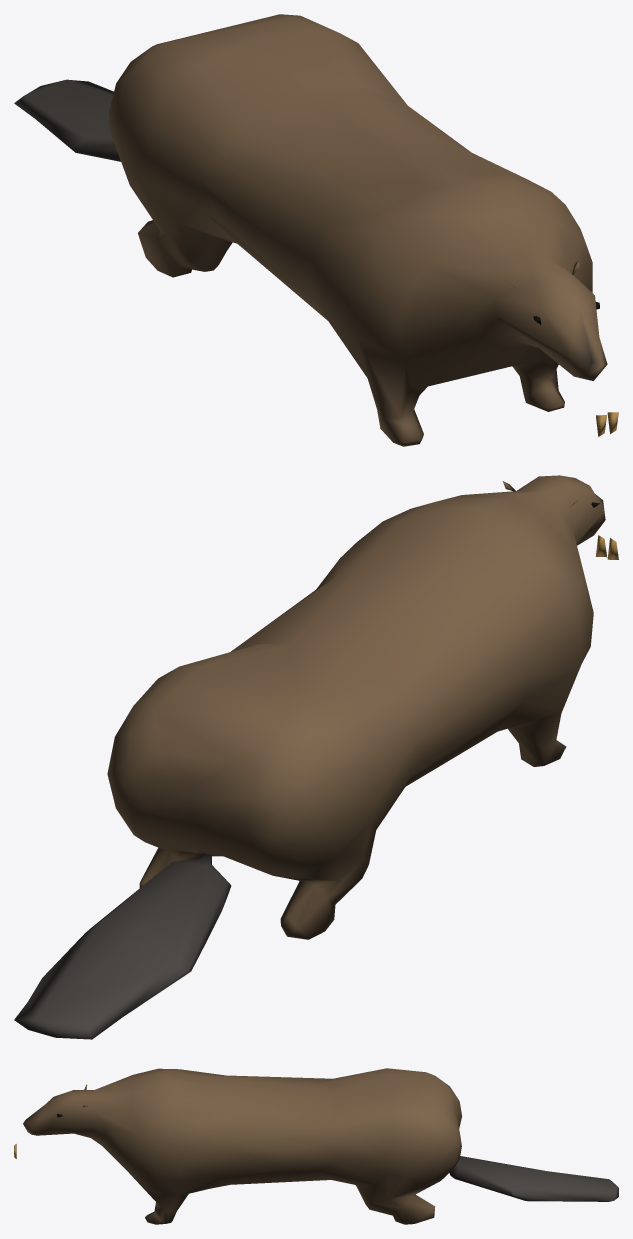
Rendered from biber.glb.
3 renders of one model, top to bottom at view 1: azimuth 30°, elevation 25°; view 2: azimuth 150°, elevation 25°; view 3: azimuth 270°, elevation 25°, orthographic. The views are drawn at different scales.
Visible parts, largest first — view 1: lack; view 2: lack; view 3: lack.
Part boxes in pixels (x1,y1,x2,y2): lack: [14, 14, 618, 446]; lack: [14, 475, 618, 1039]; lack: [14, 1068, 618, 1224].
Size of the model in its own units: 0.3251 by 0.3086 by 1.31.
